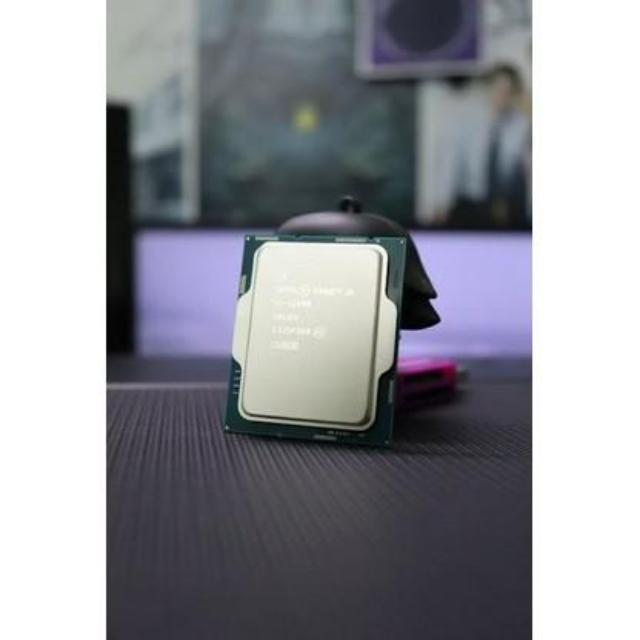CPU: (233, 234, 396, 449)
